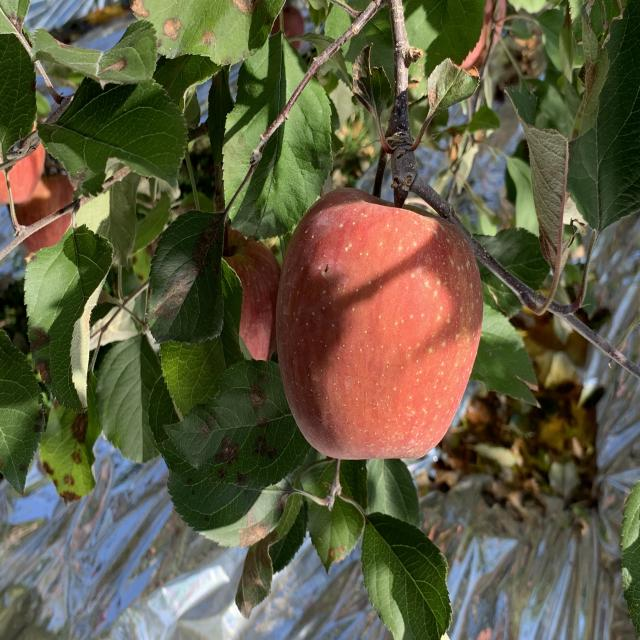fresh: (272, 177, 488, 469)
